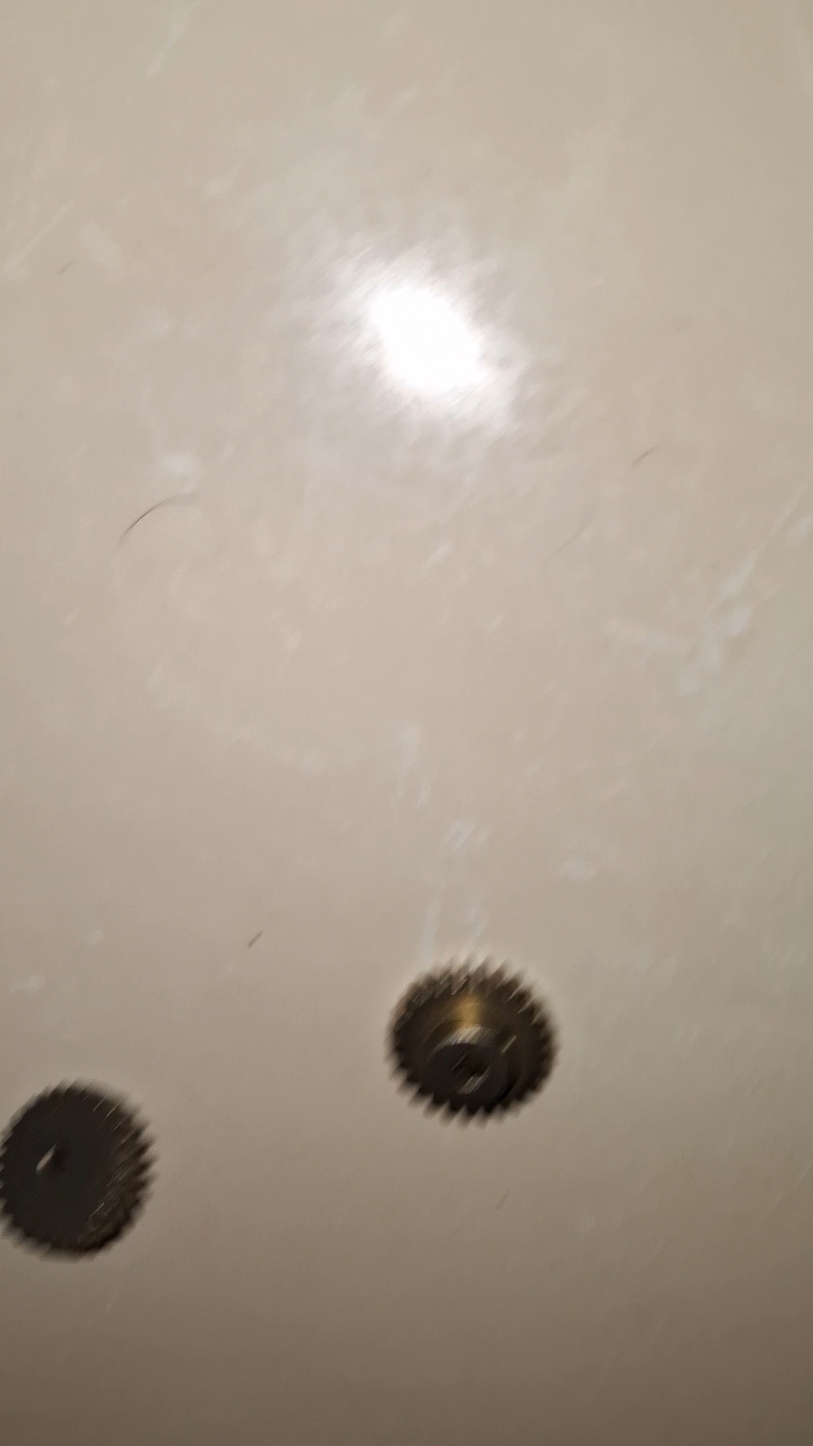spur gear: (0, 1083, 149, 1255), (390, 962, 556, 1116)
